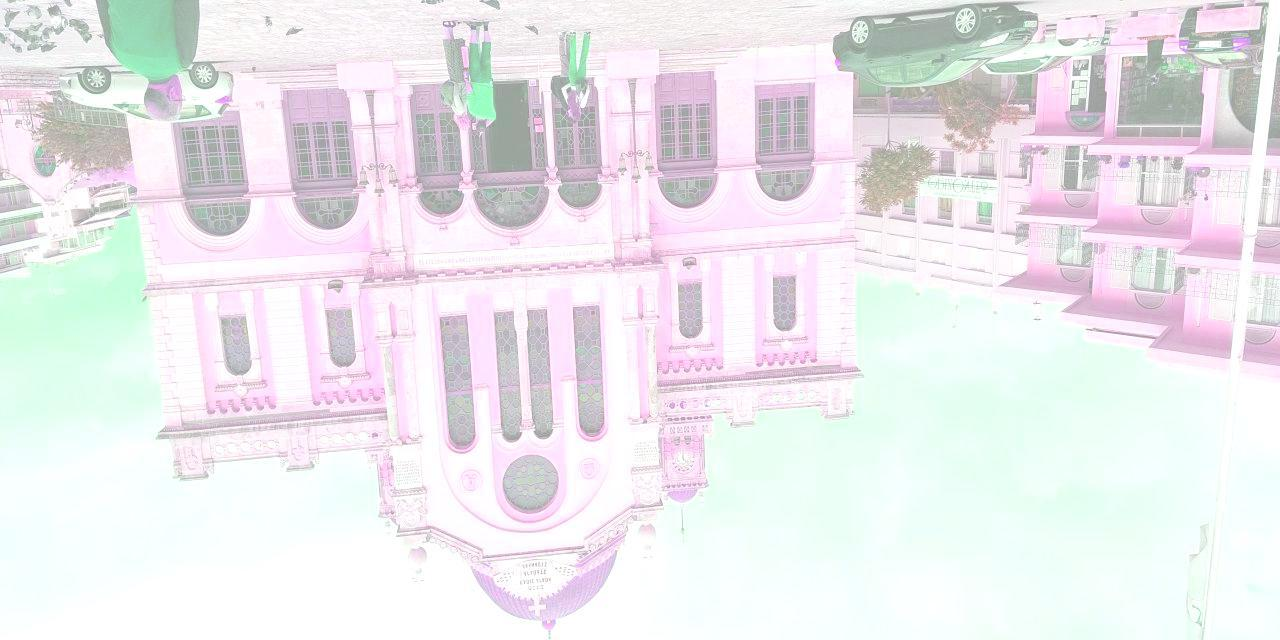Agios Minas: (121, 39, 859, 616)
